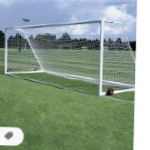goals: (3, 19, 137, 96)
